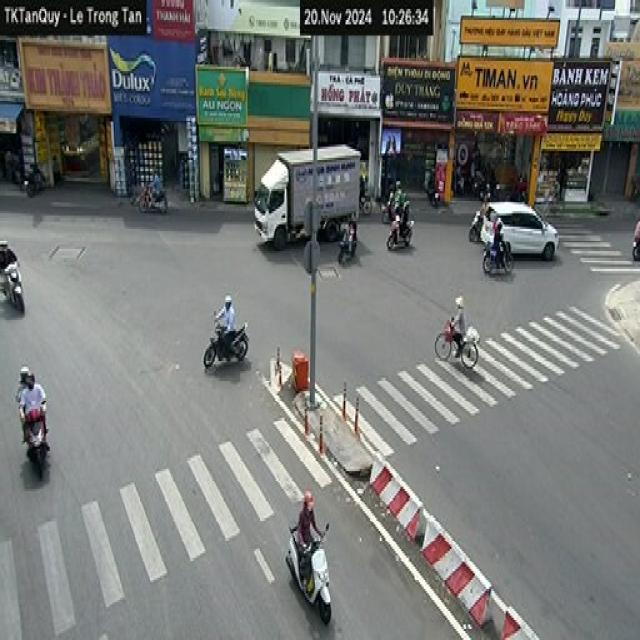motorcycle: (287, 520, 337, 624), (19, 394, 52, 484), (198, 316, 250, 373), (483, 230, 517, 282), (1, 264, 29, 317)
person: (297, 483, 319, 552), (452, 283, 468, 339), (22, 371, 42, 407), (220, 294, 235, 341), (491, 214, 504, 251), (16, 362, 30, 394)
